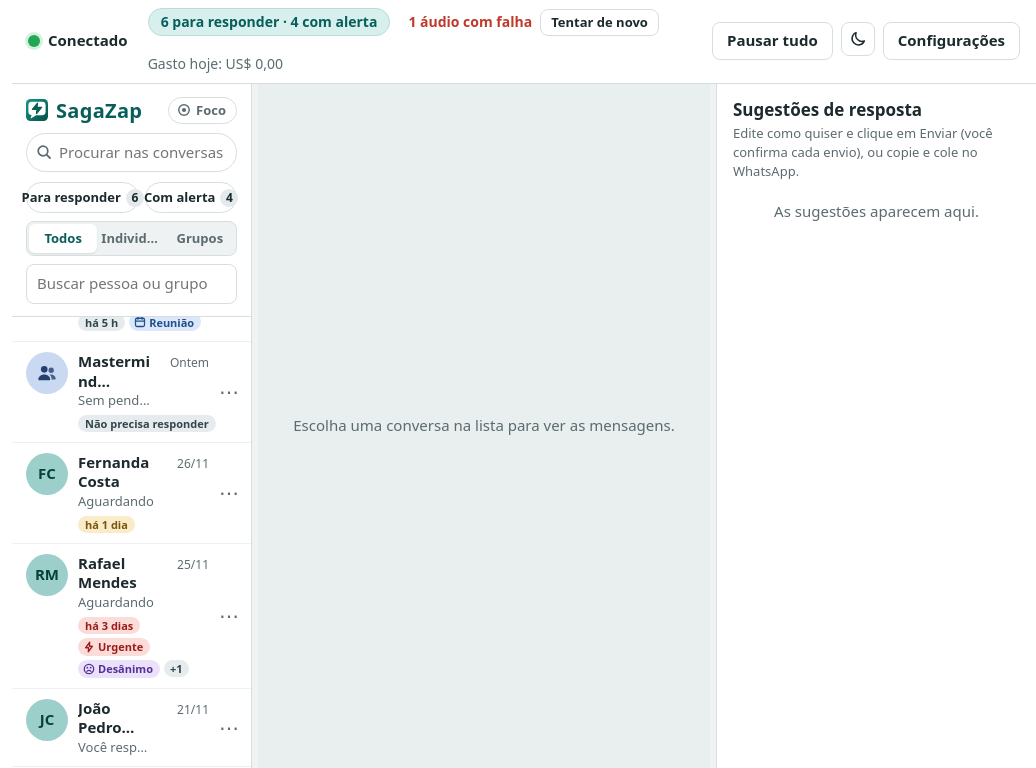
Test: conversa que não precisa de resposta: sugestões só quando o mentor pede › abrir não gera nada; "Gerar sugestões mesmo assim" gera uma vez
(page scrolled)
Expected: the text "João Pedro (Consultório)" is shown, [78,699,155,738]
Click the button "João Pedro (Consultório)": click(112, 728) [12,689,213,766]
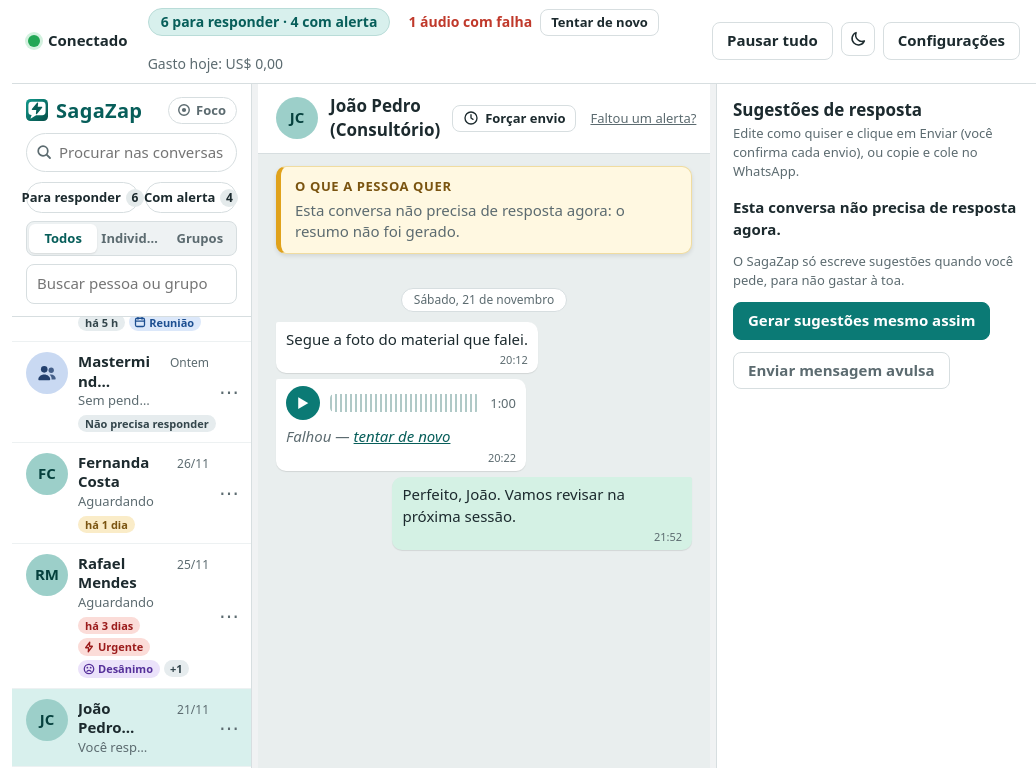
Now the text "Esta conversa não precisa de resposta agora." is shown, box [733,197,1020,240]
Now the text "o resumo não foi gerado" is shown, box [295,200,625,242]
Click the button "Gerar sugestões mesmo assim": click(862, 321) [733,302,990,340]
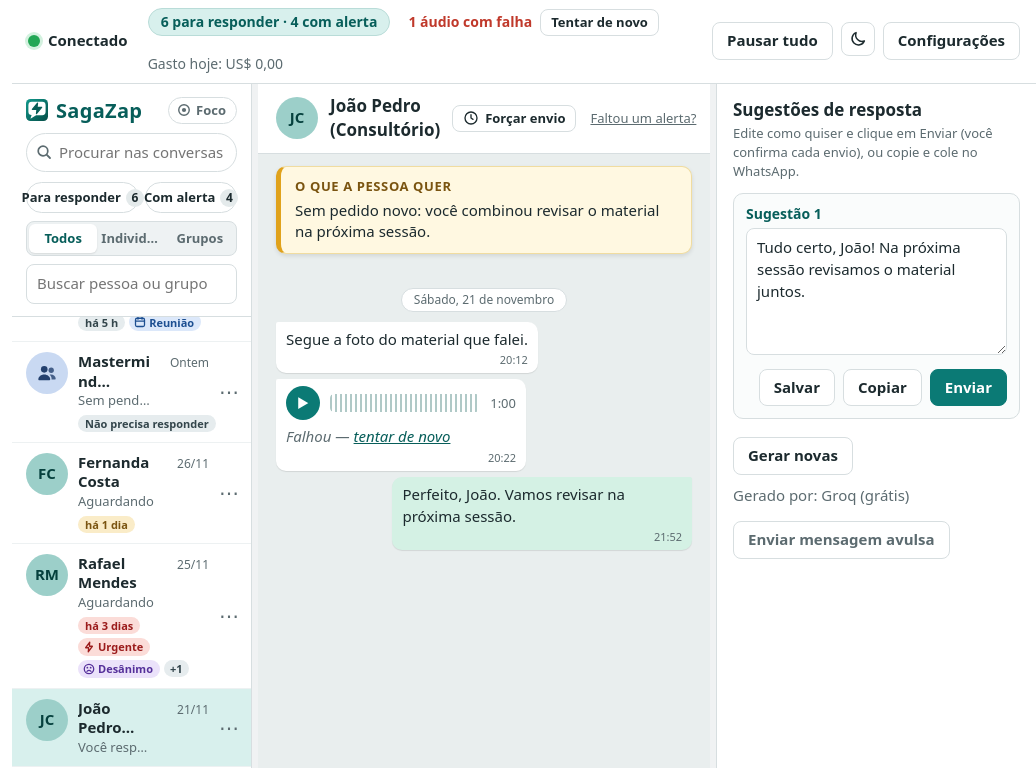
Now the text box is shown, box [746,228,1007,355]
Now the text "o resumo não foi gerado" is gone
